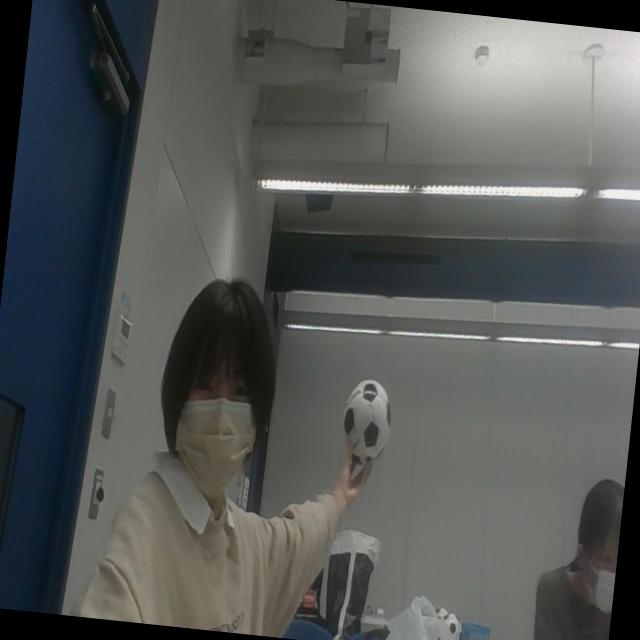Soccer Ball: (338, 374, 396, 463)
